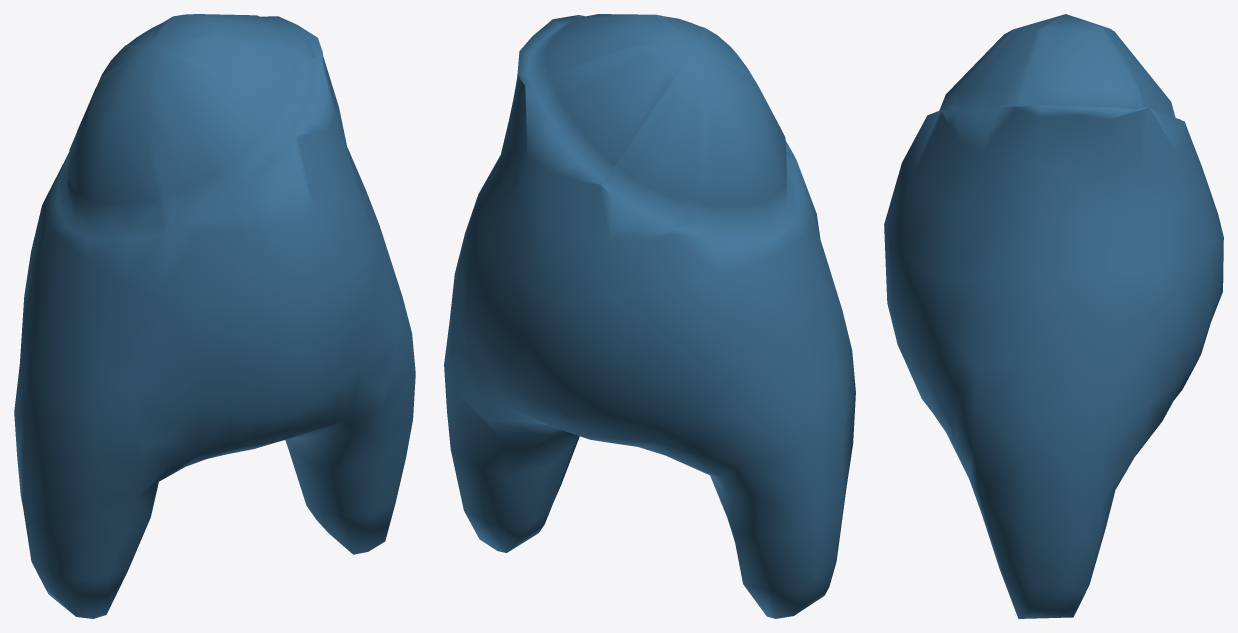
File: Puppe_03_SM.FBX
3 views of the same model, side by side, from view 1: azimuth 30°, elevation 25°; view 2: azimuth 150°, elevation 25°; view 3: azimuth 270°, elevation 25° (orthographic). The views are drawn at different scales.
Visible parts, largest first — view 1: Voodoo 03; view 2: Voodoo 03; view 3: Voodoo 03.
Part boxes in pixels (bbox=[...]): Voodoo 03: bbox=[14, 14, 415, 618]; Voodoo 03: bbox=[444, 14, 855, 618]; Voodoo 03: bbox=[884, 14, 1223, 618].
Size of the model in its own units: 13.65 by 19.78 by 11.63.
